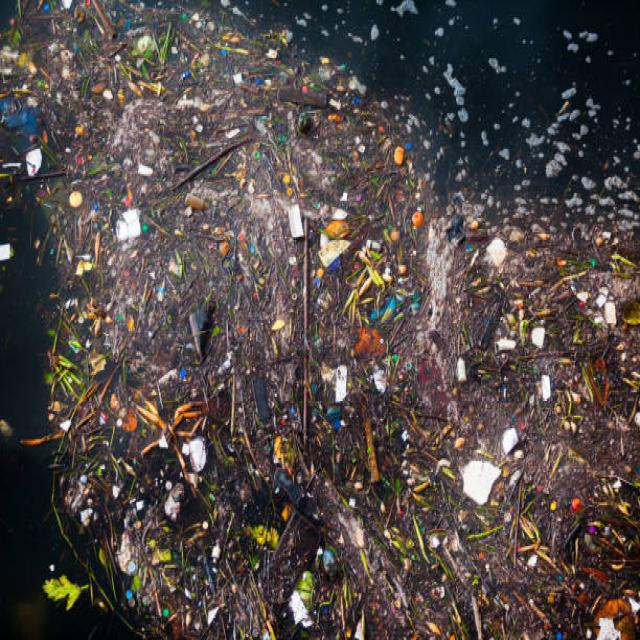garbage: (79, 52, 402, 548), (423, 226, 625, 584)
